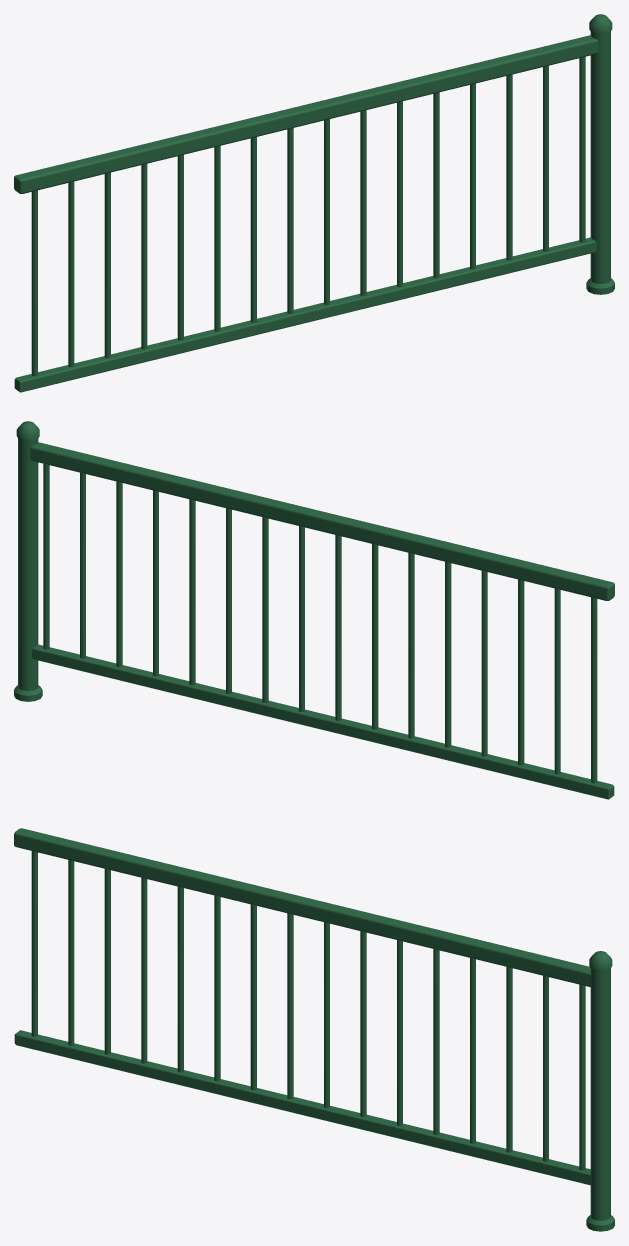
The model's file is pedestrian_railing_2m_bars_green.fbx.
The picture shows the model from 3 angles, top to bottom: view 1: azimuth 30°, elevation 25°; view 2: azimuth 150°, elevation 25°; view 3: azimuth 330°, elevation 25°; orthographic projection.
Visible parts, largest first — view 1: pedestrian_railing_2m_bars_green; view 2: pedestrian_railing_2m_bars_green; view 3: pedestrian_railing_2m_bars_green.
Part boxes in pixels (x1,y1,x2,y2): pedestrian_railing_2m_bars_green: [14, 14, 614, 392]; pedestrian_railing_2m_bars_green: [14, 421, 614, 799]; pedestrian_railing_2m_bars_green: [14, 828, 614, 1231].
Bounding box in the file's own units: 2.04 × 0.895 × 0.0846.
